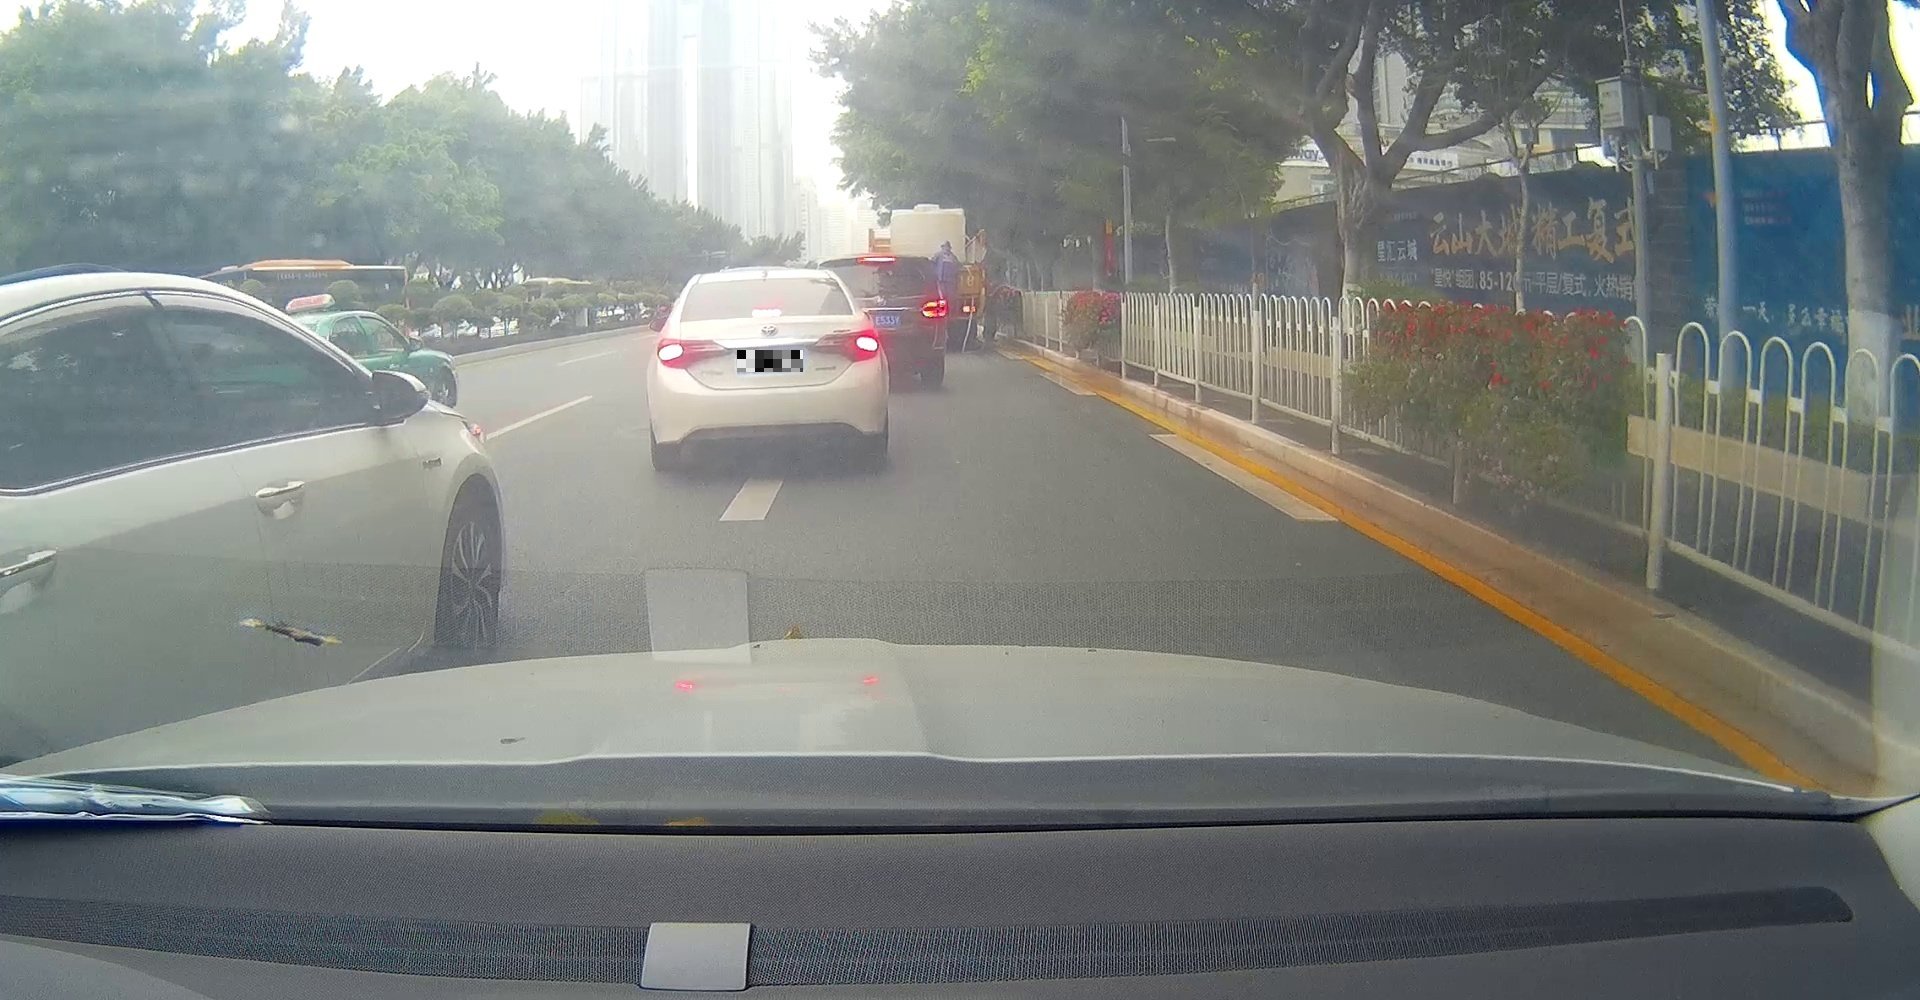L_light: (658, 338, 729, 368)
R_light: (808, 329, 879, 362)
T_light: (750, 308, 782, 316)
day-brake: (648, 270, 888, 471)
plate_1: (737, 350, 803, 372)
